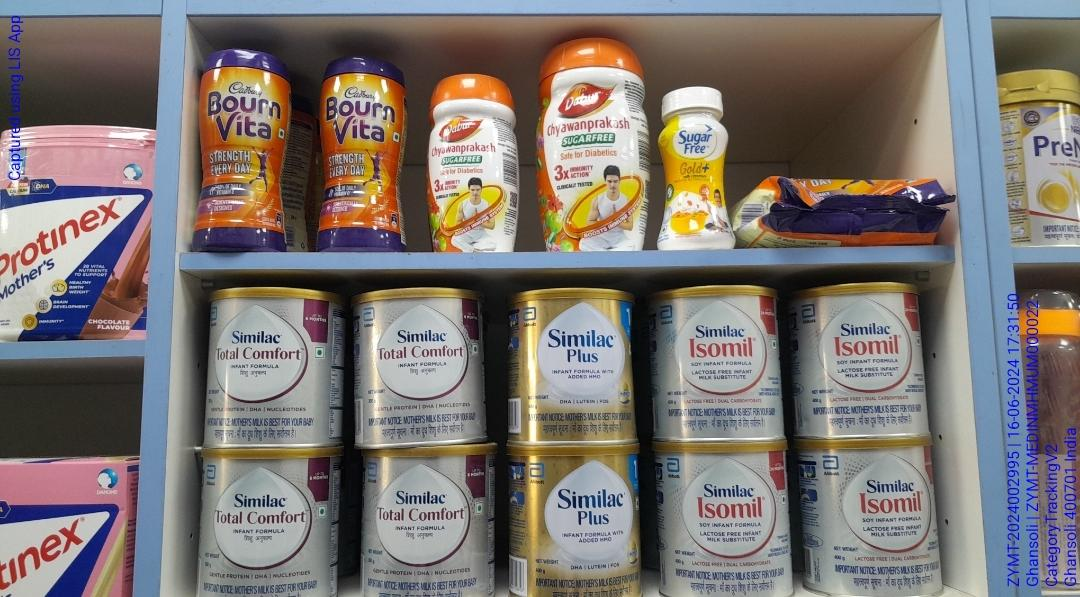BOURN_VITA_500_G_JAR: (188, 41, 291, 245), (315, 51, 406, 248)
